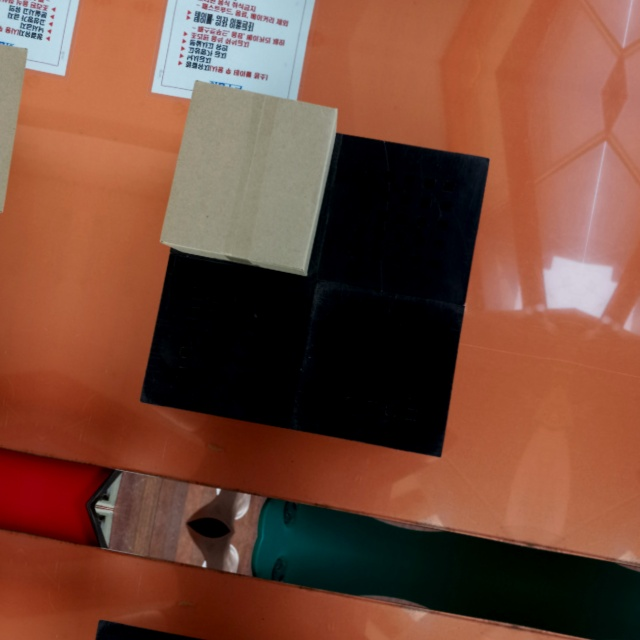box: (157, 76, 342, 282)
